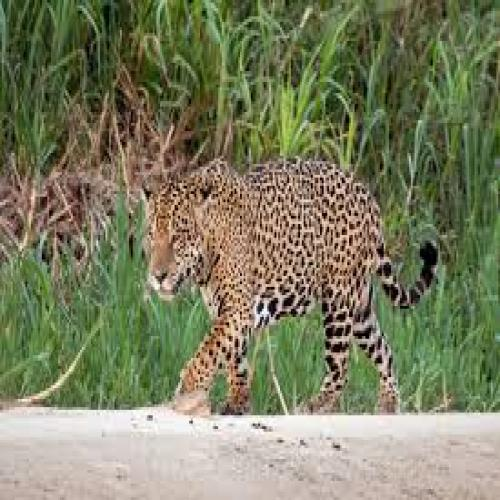jaguar_not-endangered: (142, 156, 437, 417)
